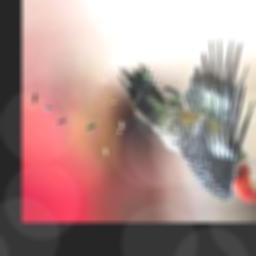Woodpecker: (119, 40, 256, 213)
